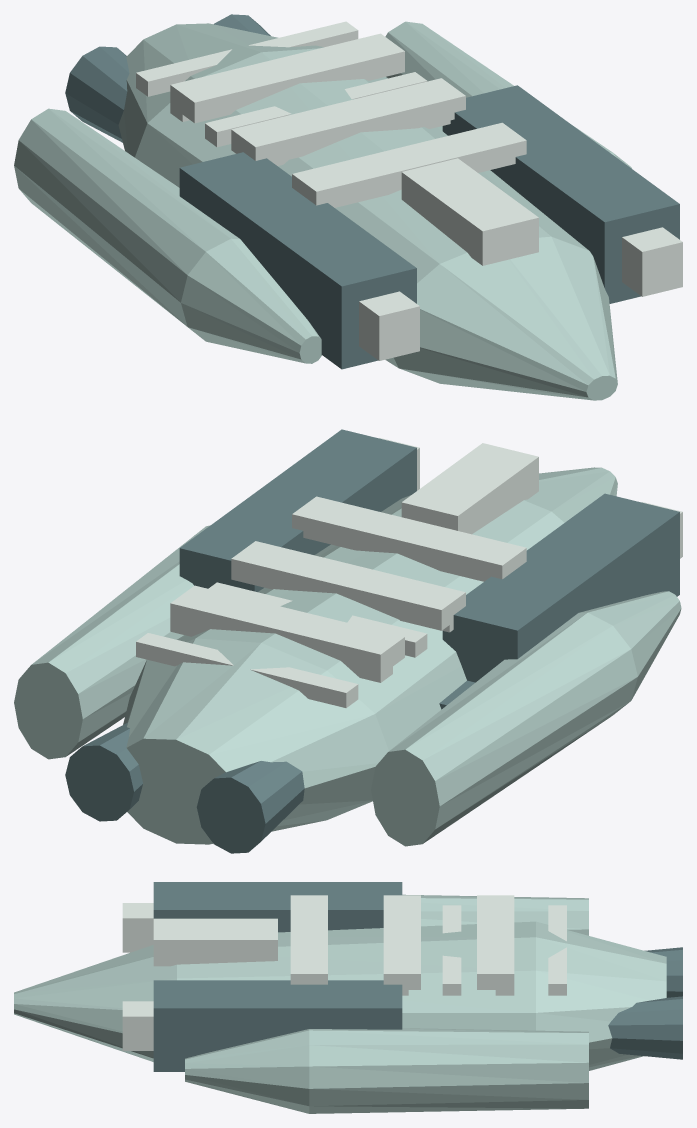
3 views of the same model, one above another, from view 1: azimuth 30°, elevation 25°; view 2: azimuth 150°, elevation 25°; view 3: azimuth 270°, elevation 25° (orthographic). The views are drawn at different scales.
Size of the model in its own units: 2.63 by 1.01 by 4.35.
